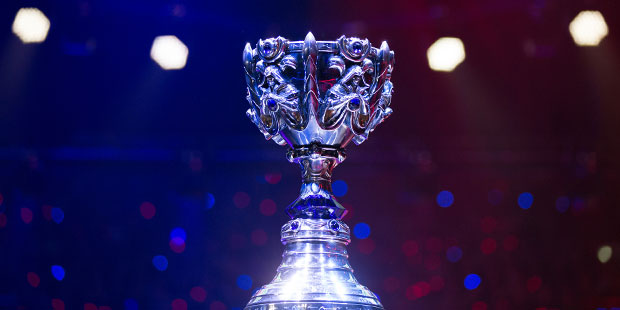trophy: (240, 30, 396, 310)
